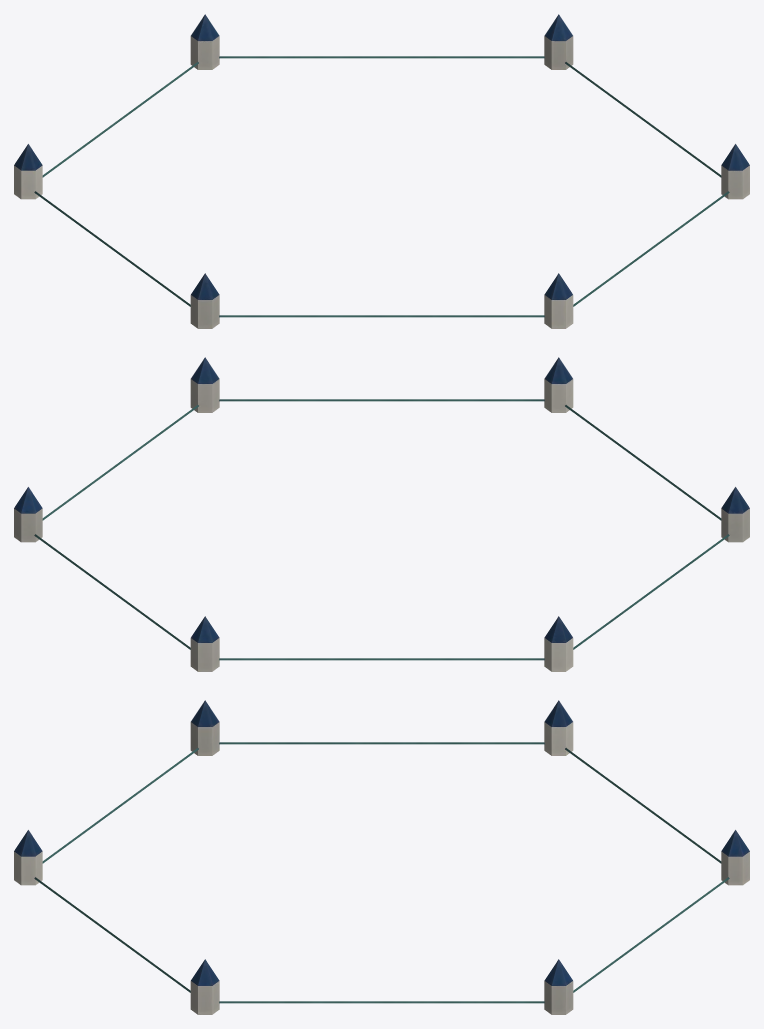
Rendered from raft-free.glb.
The picture shows the model from 3 angles, top to bottom: view 1: azimuth 30°, elevation 25°; view 2: azimuth 150°, elevation 25°; view 3: azimuth 270°, elevation 25°; orthographic projection.
Parts seen in each view (by area): view 1: raft-free; view 2: raft-free; view 3: raft-free.
Boxes of the visible parts, <box> form: raft-free: <box>14,14,749,328</box>; raft-free: <box>14,357,749,671</box>; raft-free: <box>14,700,749,1014</box>.
Size of the model in its own units: 1.6 by 0.14 by 1.85.
1 material, 1 textured.
